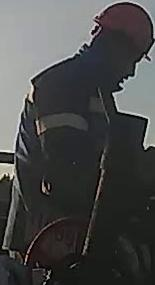helmet: (93, 1, 154, 63)
vest: (20, 66, 113, 268)
